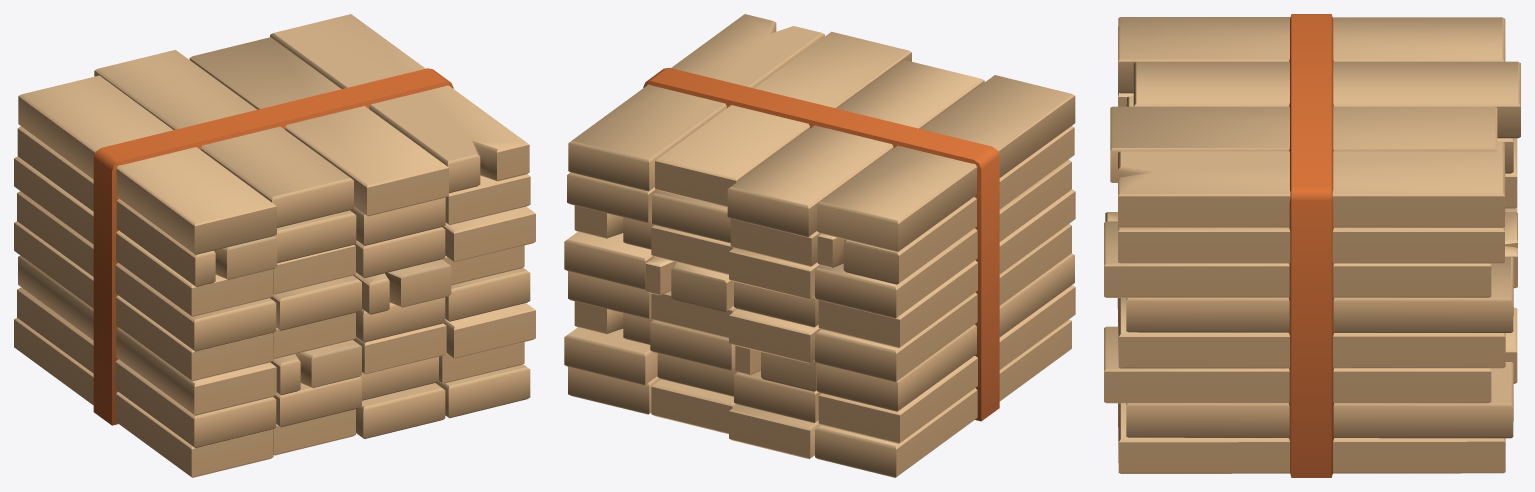
The model's file is wood_planks_stack_large.glb.
3 renders of one model, left to right at view 1: azimuth 30°, elevation 25°; view 2: azimuth 150°, elevation 25°; view 3: azimuth 270°, elevation 25°, orthographic. The views are drawn at different scales.
Visible parts, largest first — view 1: Wood_Planks_Stack_Large; view 2: Wood_Planks_Stack_Large; view 3: Wood_Planks_Stack_Large.
Part boxes in pixels (bbox=[...]): Wood_Planks_Stack_Large: bbox=[14, 14, 535, 477]; Wood_Planks_Stack_Large: bbox=[564, 14, 1075, 477]; Wood_Planks_Stack_Large: bbox=[1104, 14, 1520, 477].
Size of the model in its own units: 0.9997 by 0.7339 by 0.9692.
1 material, 1 textured.
